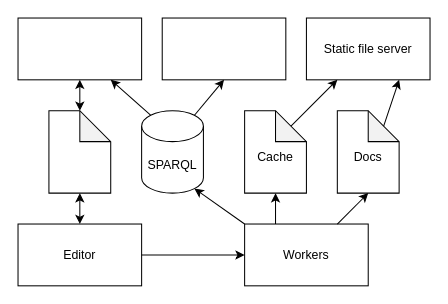
The diagram is 448 pixels wide and 304 high, and some of its shapes have lost their labels. Here are the shapes that lost their labels. From the top down, the centre of each, then its label:
(79,48): Registry
(223,48): Recommender
(79,151): CMDI
